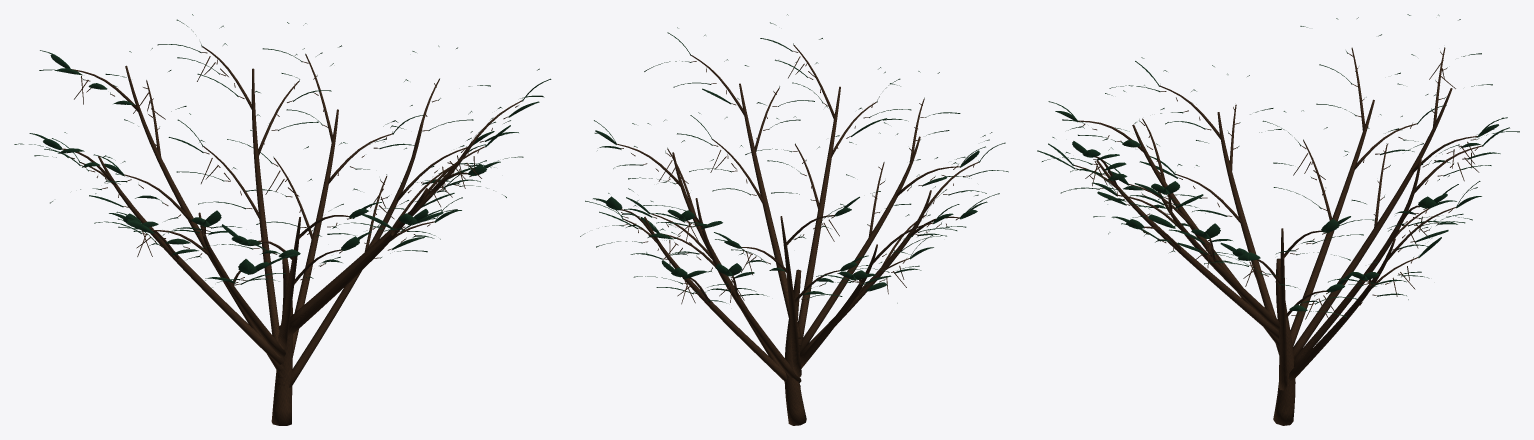
File: stamina_blue_bush_harvested.glb
3 views of the same model, side by side, from view 1: azimuth 30°, elevation 25°; view 2: azimuth 150°, elevation 25°; view 3: azimuth 270°, elevation 25° (orthographic). The views are drawn at different scales.
Visible parts, largest first — view 1: Stamina_Blue_Branches_And_Leaves; view 2: Stamina_Blue_Branches_And_Leaves; view 3: Stamina_Blue_Branches_And_Leaves.
Part boxes in pixels (left/top/right/bottom): Stamina_Blue_Branches_And_Leaves: left=14, top=14, right=551, bottom=425; Stamina_Blue_Branches_And_Leaves: left=580, top=14, right=1008, bottom=425; Stamina_Blue_Branches_And_Leaves: left=1037, top=14, right=1519, bottom=425.
Size of the model in its own units: 0.7133 by 0.5484 by 0.71.
Materials: 2 (2 with a texture image).
